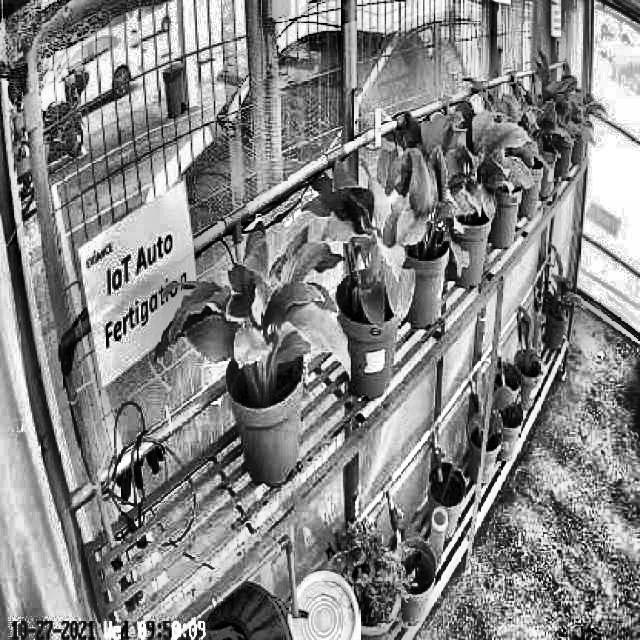plants: (153, 212, 349, 402), (370, 112, 475, 286), (318, 178, 418, 338), (419, 92, 541, 218)
